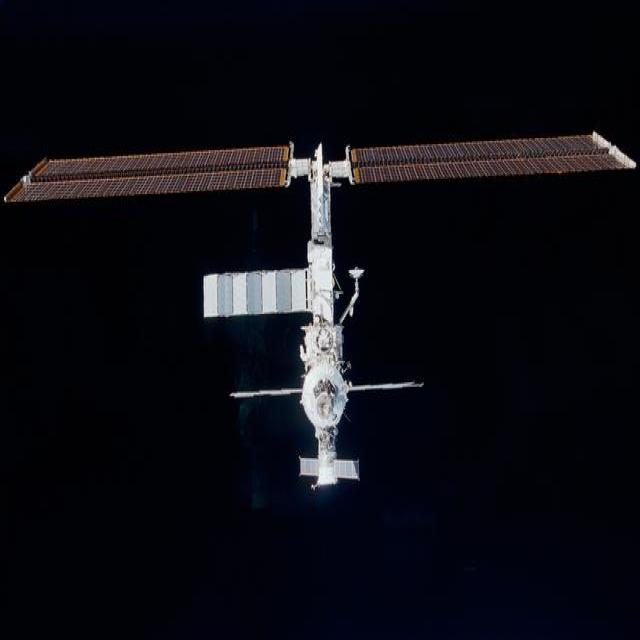satellite: (5, 133, 635, 485)
